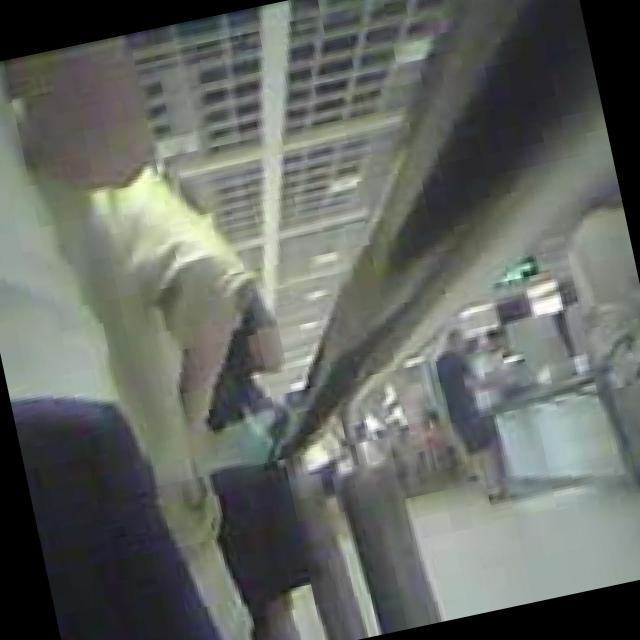person: (0, 32, 265, 640), (25, 131, 328, 640), (109, 153, 346, 640), (548, 165, 640, 575), (421, 318, 525, 516)
